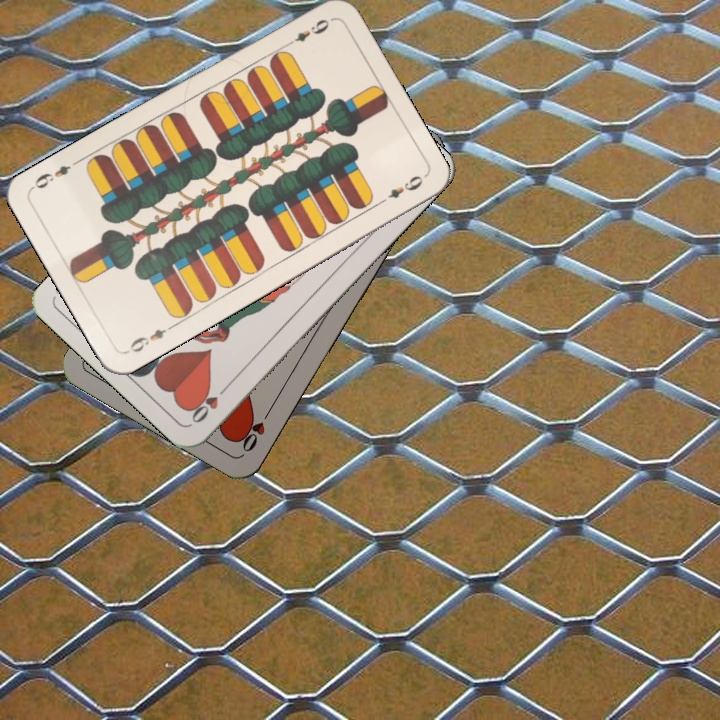E9: (280, 14, 334, 50), (122, 321, 176, 356)
HO: (187, 379, 232, 426), (238, 402, 276, 455)
